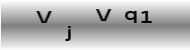1: (139, 10, 153, 24)
V: (35, 9, 52, 24), (94, 7, 112, 21)
j: (63, 25, 71, 41)
q: (124, 10, 137, 24)
